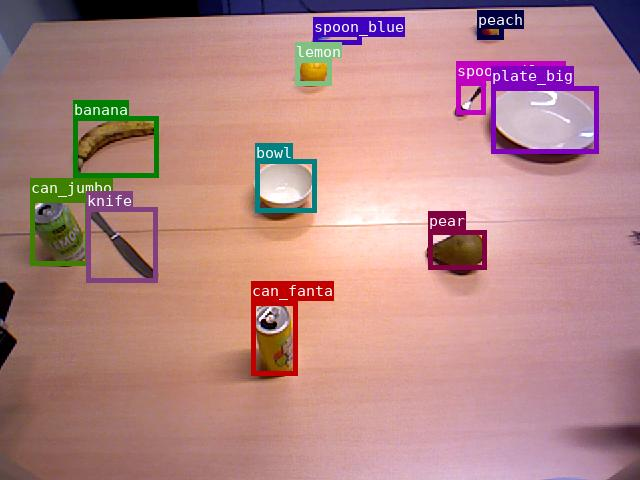banana: (73, 116, 158, 177)
bowl: (255, 159, 316, 212)
can_fanta: (251, 301, 297, 375)
can_jumbo: (30, 198, 89, 265)
knife: (86, 207, 157, 282)
lemon: (295, 58, 331, 85)
peach: (477, 10, 503, 39)
pear: (428, 230, 486, 269)
plate_big: (491, 86, 598, 153)
spoon_blue: (313, 17, 361, 44)
spoon_silver: (456, 81, 485, 114)
